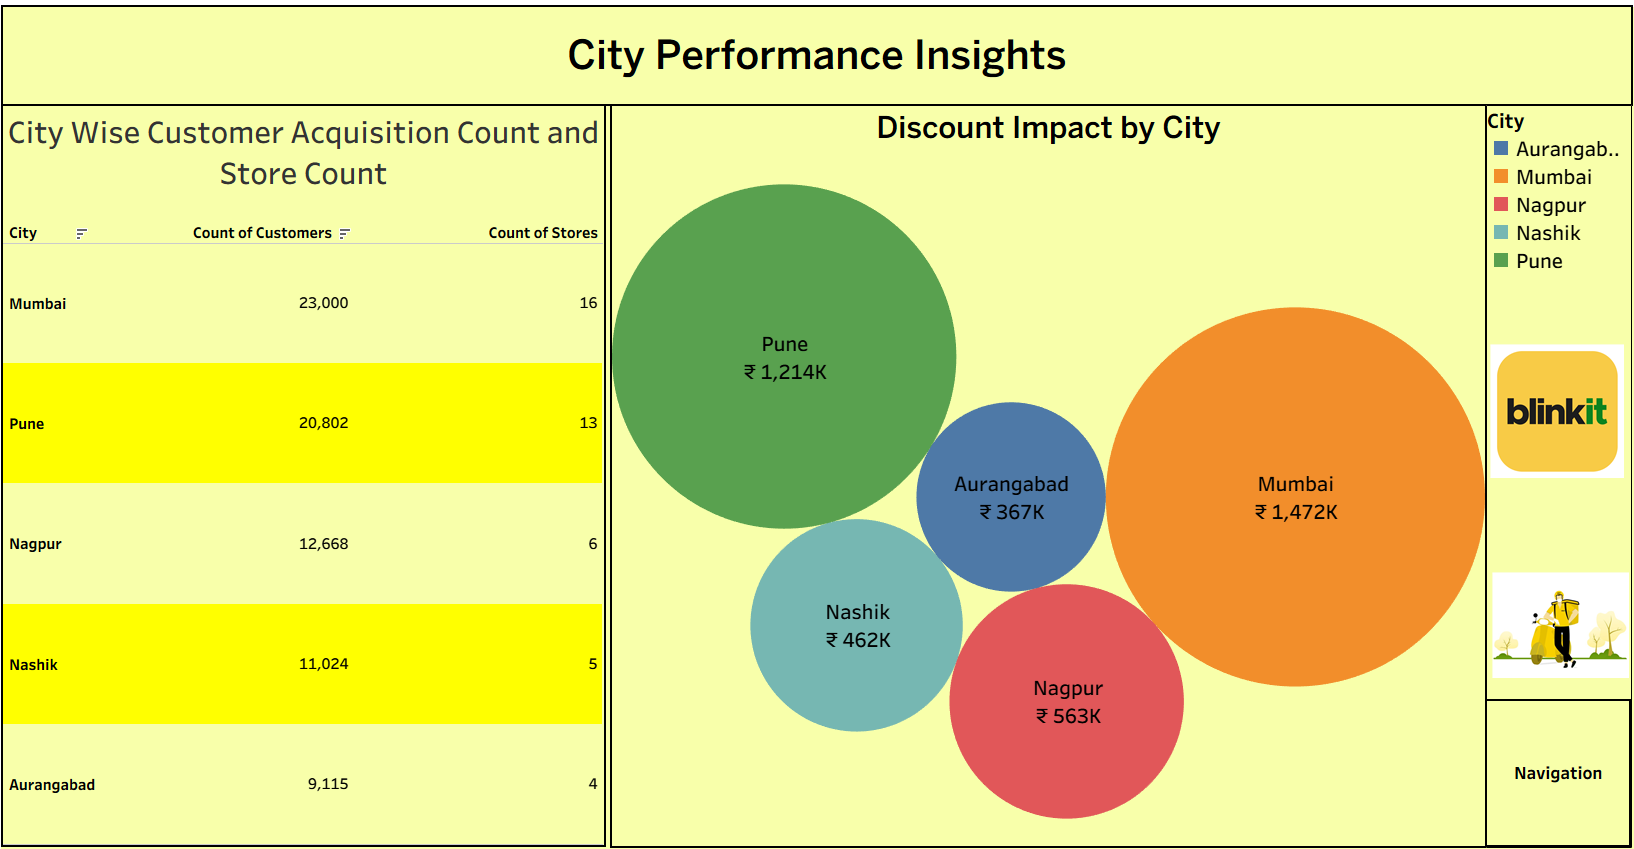

This screenshot's page, from the dashboard's own definition file:
{"tool":"tableau","page":{"name":"City Performance Insights","canvas":[1000,1000],"units":"permille","ordinal":0},"visuals":[{"type":"text","box":[4.9,7,989.1,117.4]},{"type":"worksheet","title":"City and Store Count","mark":"Automatic","rows":["City"],"box":[4.9,122.1,366.7,864]},{"type":"worksheet","title":"Discount Impact by City","mark":"Circle","box":[373.9,122.1,531.5,865.1]},{"type":"legend","title":"Discount Impact by City","param":"[federated.1uscovc1tqehue10v8pua1d7i4ou].[none:City:nk]","box":[904.9,123.3,88.5,864]},{"type":"image","param":"Image/image.png","box":[907.3,401.2,84.9,155.8]},{"type":"image","param":"Image/image2.jpg","box":[908.5,666.3,83,141.9]},{"type":"dashboard-object","box":[904.2,814,88.5,172.1]}]}

Visuals, with their boxes on the dashboard's canvas, which has no fixed pixel size, in thousandths of its width and height (x1, y1, x2, y2). These are canvas units, not pixel positions in the 1634x849 screenshot, which may show the page scaled, cropped or inside an application window:
text: rect(5, 7, 994, 124)
"City and Store Count" worksheet: rect(5, 122, 372, 986)
"Discount Impact by City" worksheet (Circle marks): rect(374, 122, 905, 987)
"Discount Impact by City" legend: rect(905, 123, 993, 987)
image: rect(907, 401, 992, 557)
image: rect(908, 666, 992, 808)
dashboard-object: rect(904, 814, 993, 986)
